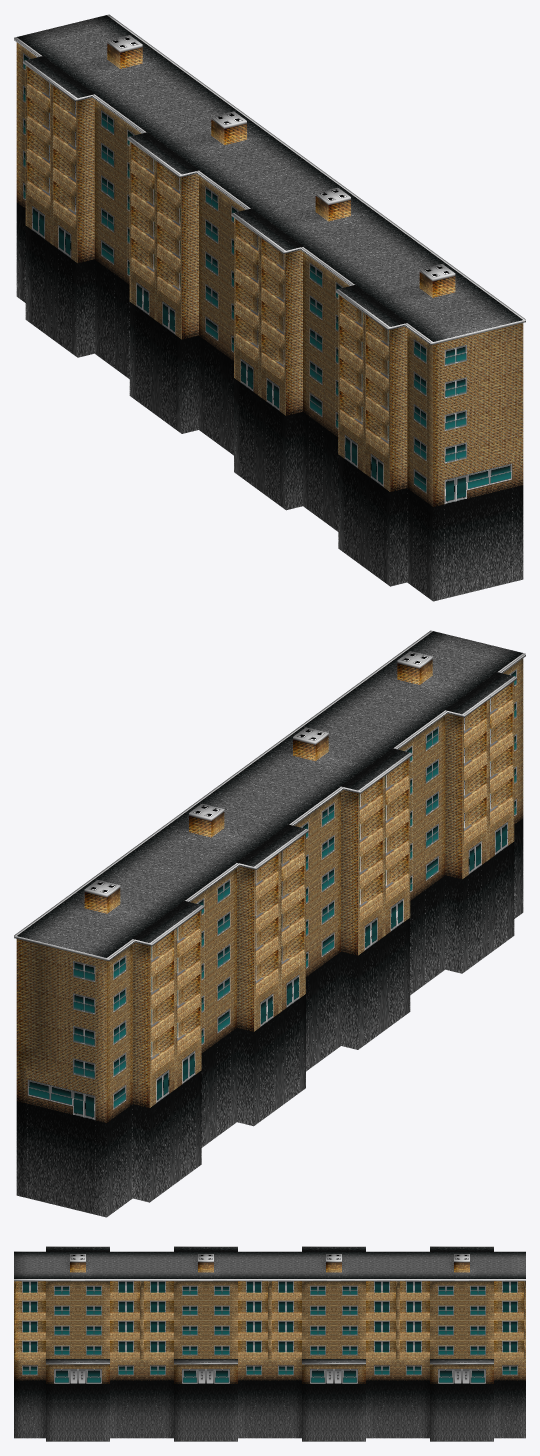
File: apartement_mod1_3b.fbx
The picture shows the model from 3 angles, top to bottom: view 1: azimuth 30°, elevation 25°; view 2: azimuth 150°, elevation 25°; view 3: azimuth 270°, elevation 25°; orthographic projection. The views are drawn at different scales.
Visible parts, largest first — view 1: apartement_mod1_3b; view 2: apartement_mod1_3b; view 3: apartement_mod1_3b.
Part boxes in pixels (x1,y1,x2,y2): apartement_mod1_3b: (14,14,525,601); apartement_mod1_3b: (14,630,525,1217); apartement_mod1_3b: (14,1246,525,1441).
Bounding box in the file's own units: 1231 × 2652 × 7200.
